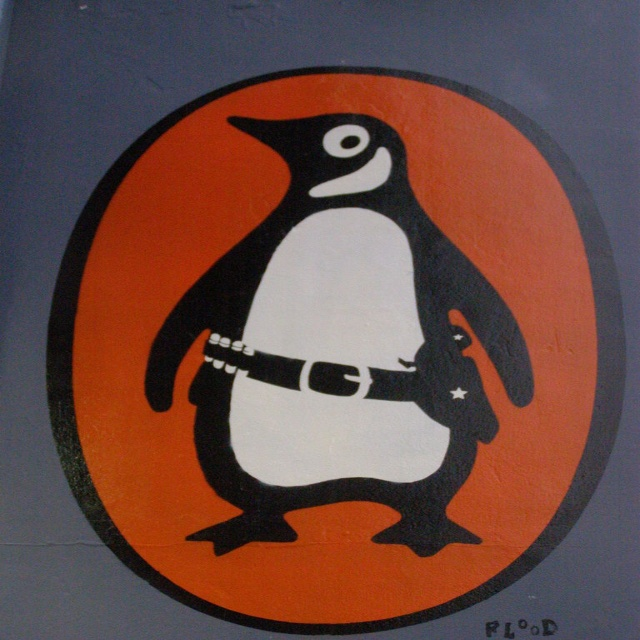Penguin: (92, 69, 580, 596)
